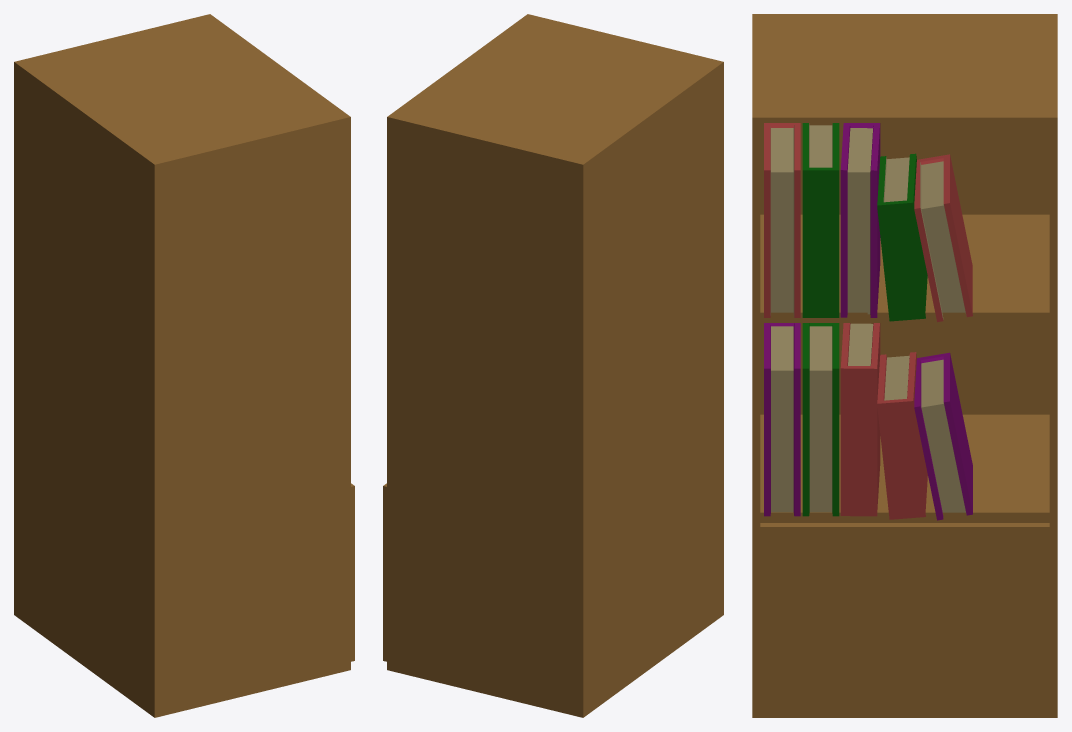
File: Bookshelf.fbx
3 renders of one model, left to right at view 1: azimuth 30°, elevation 25°; view 2: azimuth 150°, elevation 25°; view 3: azimuth 270°, elevation 25°, orthographic. The views are drawn at different scales.
Visible parts, largest first — view 1: Cube.009; view 2: Cube.009; view 3: Cube.009.
Boxes of the visible parts, x1,y1,x2,y2 form: Cube.009: [14, 14, 354, 717]; Cube.009: [383, 14, 723, 717]; Cube.009: [752, 14, 1057, 717].
Size of the model in its own units: 79.99 by 208 by 95.63.
